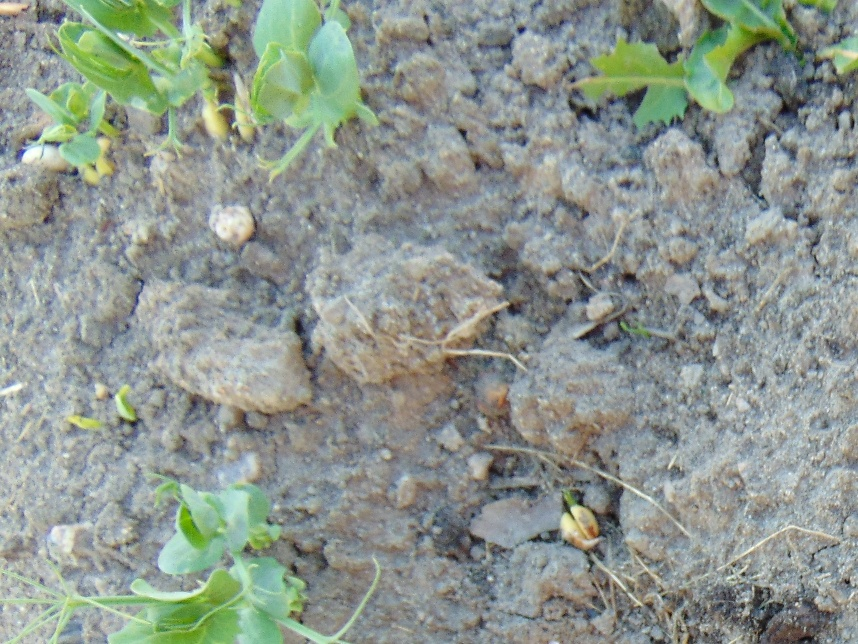crop: (1, 472, 377, 644), (17, 1, 221, 188), (217, 1, 384, 178)
weed: (582, 1, 858, 127)
